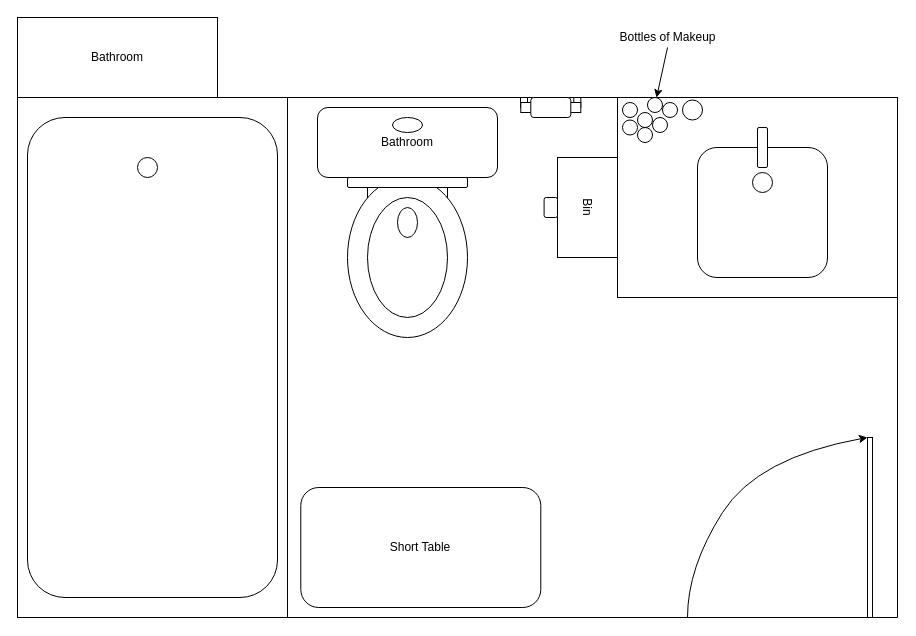
Image size: 916x636. Some labels were removed from this diagram. Here are the shapes that lost their labels. From the top down, the box of each, then its label:
(696, 146, 828, 278): Sink
(26, 116, 278, 598): Bathtube
